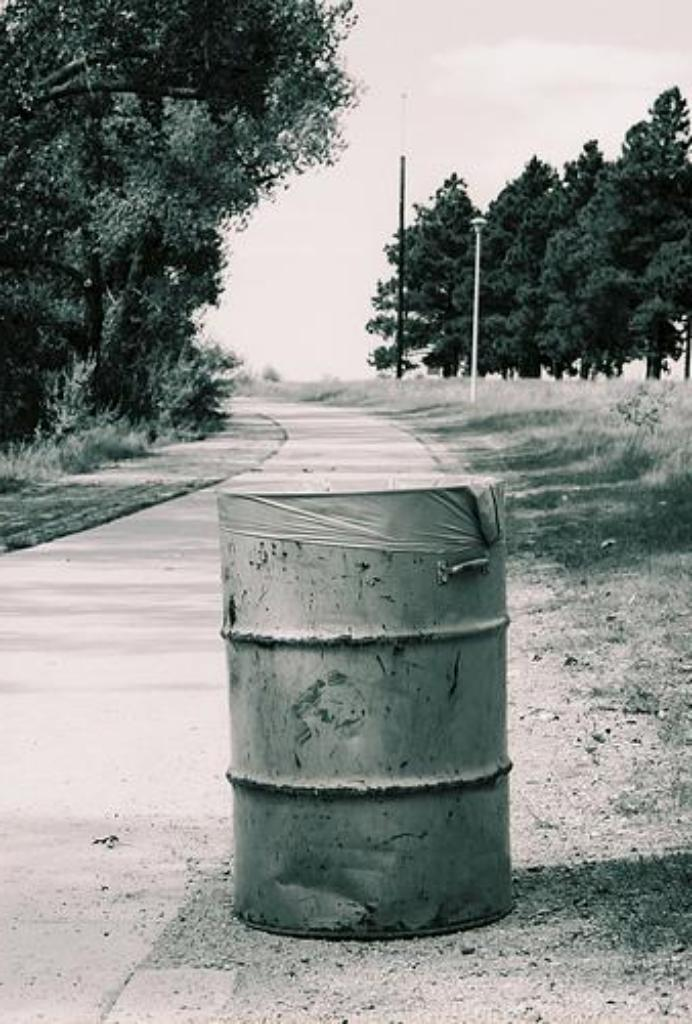dustbin: (198, 453, 514, 969)
